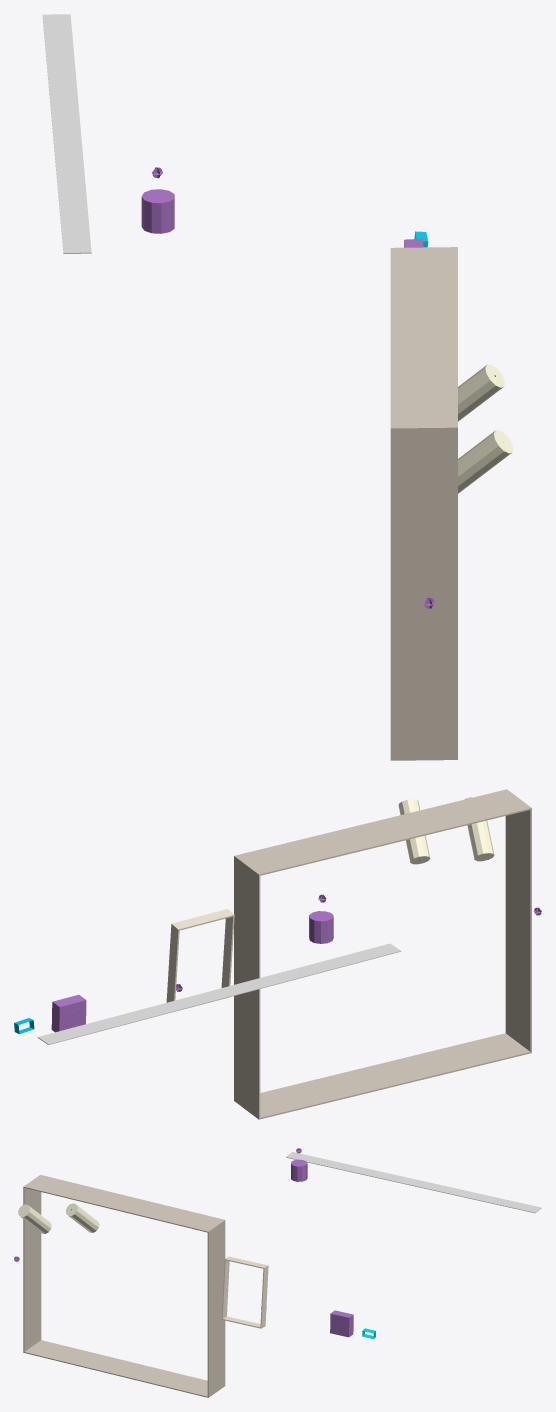
The model's file is tile_232.glb.
3 views of the same model, one above another, from view 1: azimuth 30°, elevation 25°; view 2: azimuth 150°, elevation 25°; view 3: azimuth 270°, elevation 25° (orthographic). The views are drawn at different scales.
Size of the model in its own units: 4.56 by 3.9 by 9.39.
